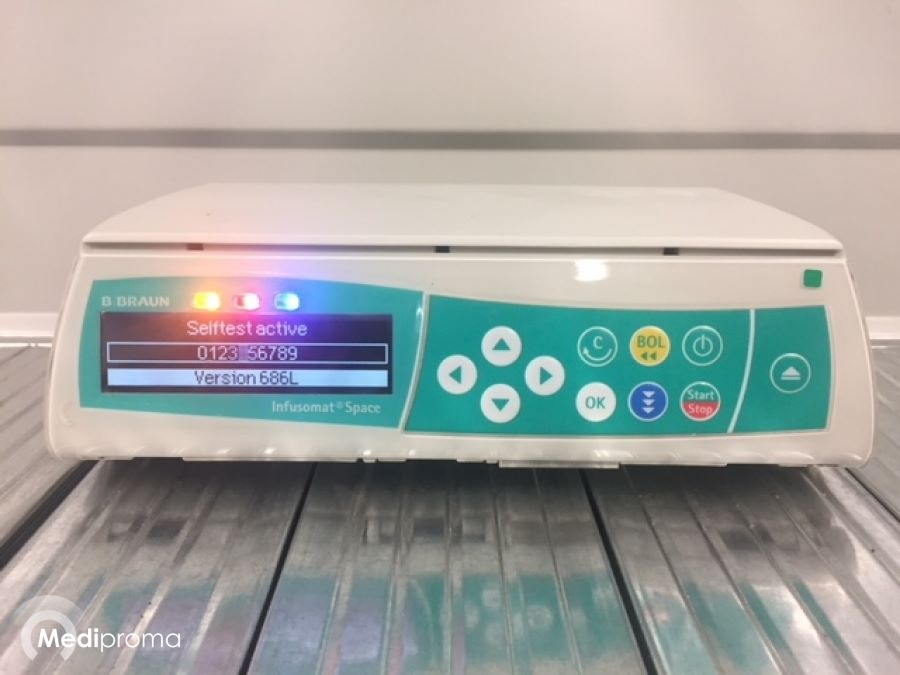BBraun Infusomat Space: (35, 176, 879, 485)
